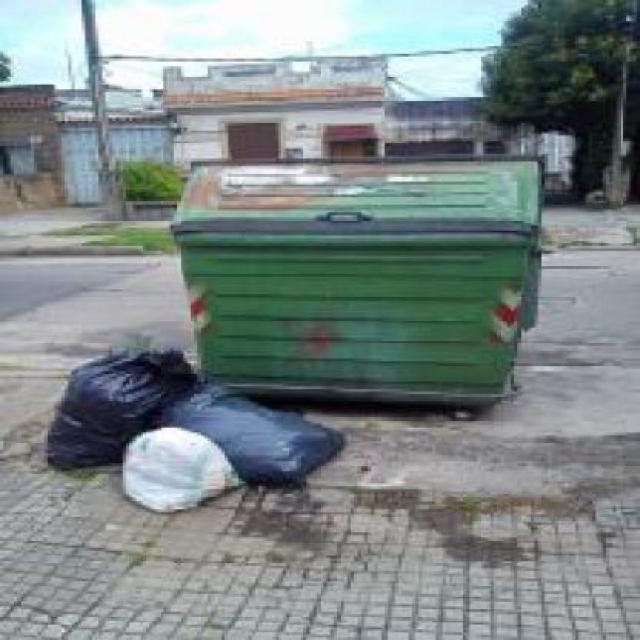garbage: (31, 342, 382, 524)
